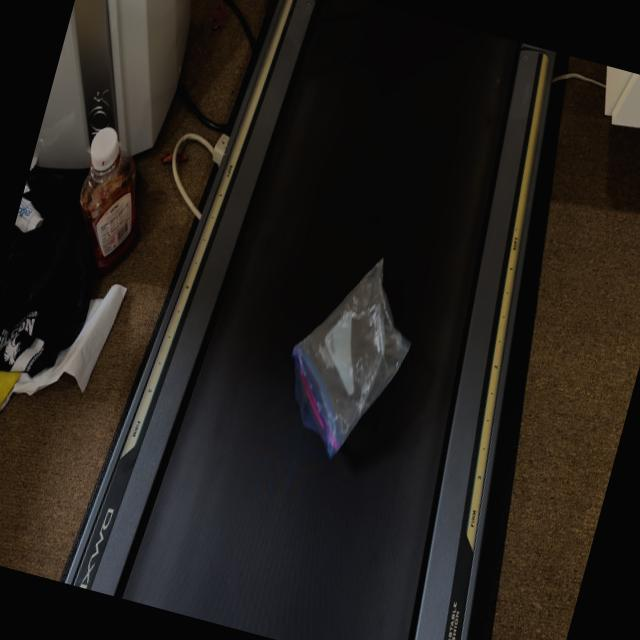Trash: (267, 248, 451, 480)
